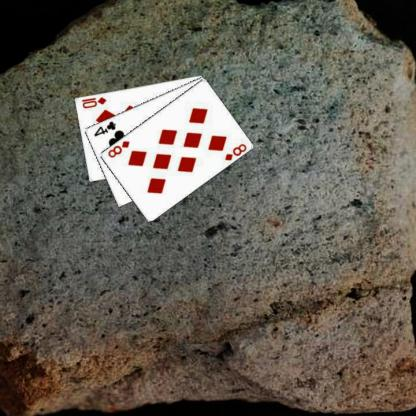10D: (81, 95, 109, 109)
4C: (93, 119, 118, 138)
8D: (107, 138, 132, 159), (224, 141, 249, 162)
